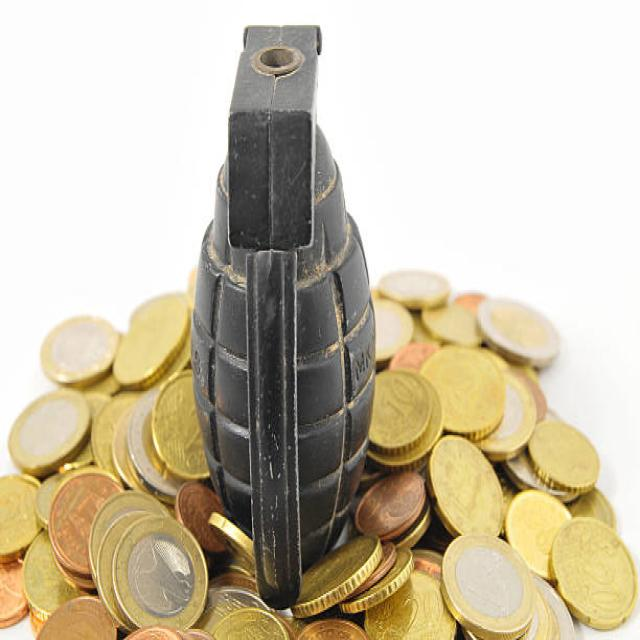grenade: (183, 1, 389, 618)
